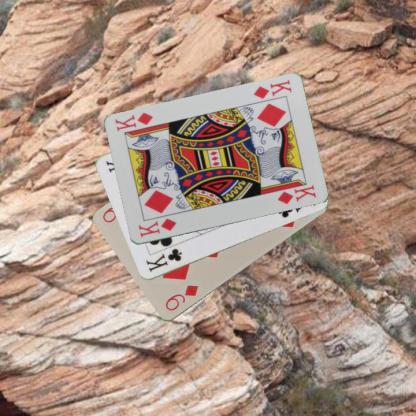9d: (162, 282, 200, 312)
Kc: (143, 246, 183, 273)
Kd: (136, 216, 178, 239), (251, 78, 293, 100)
